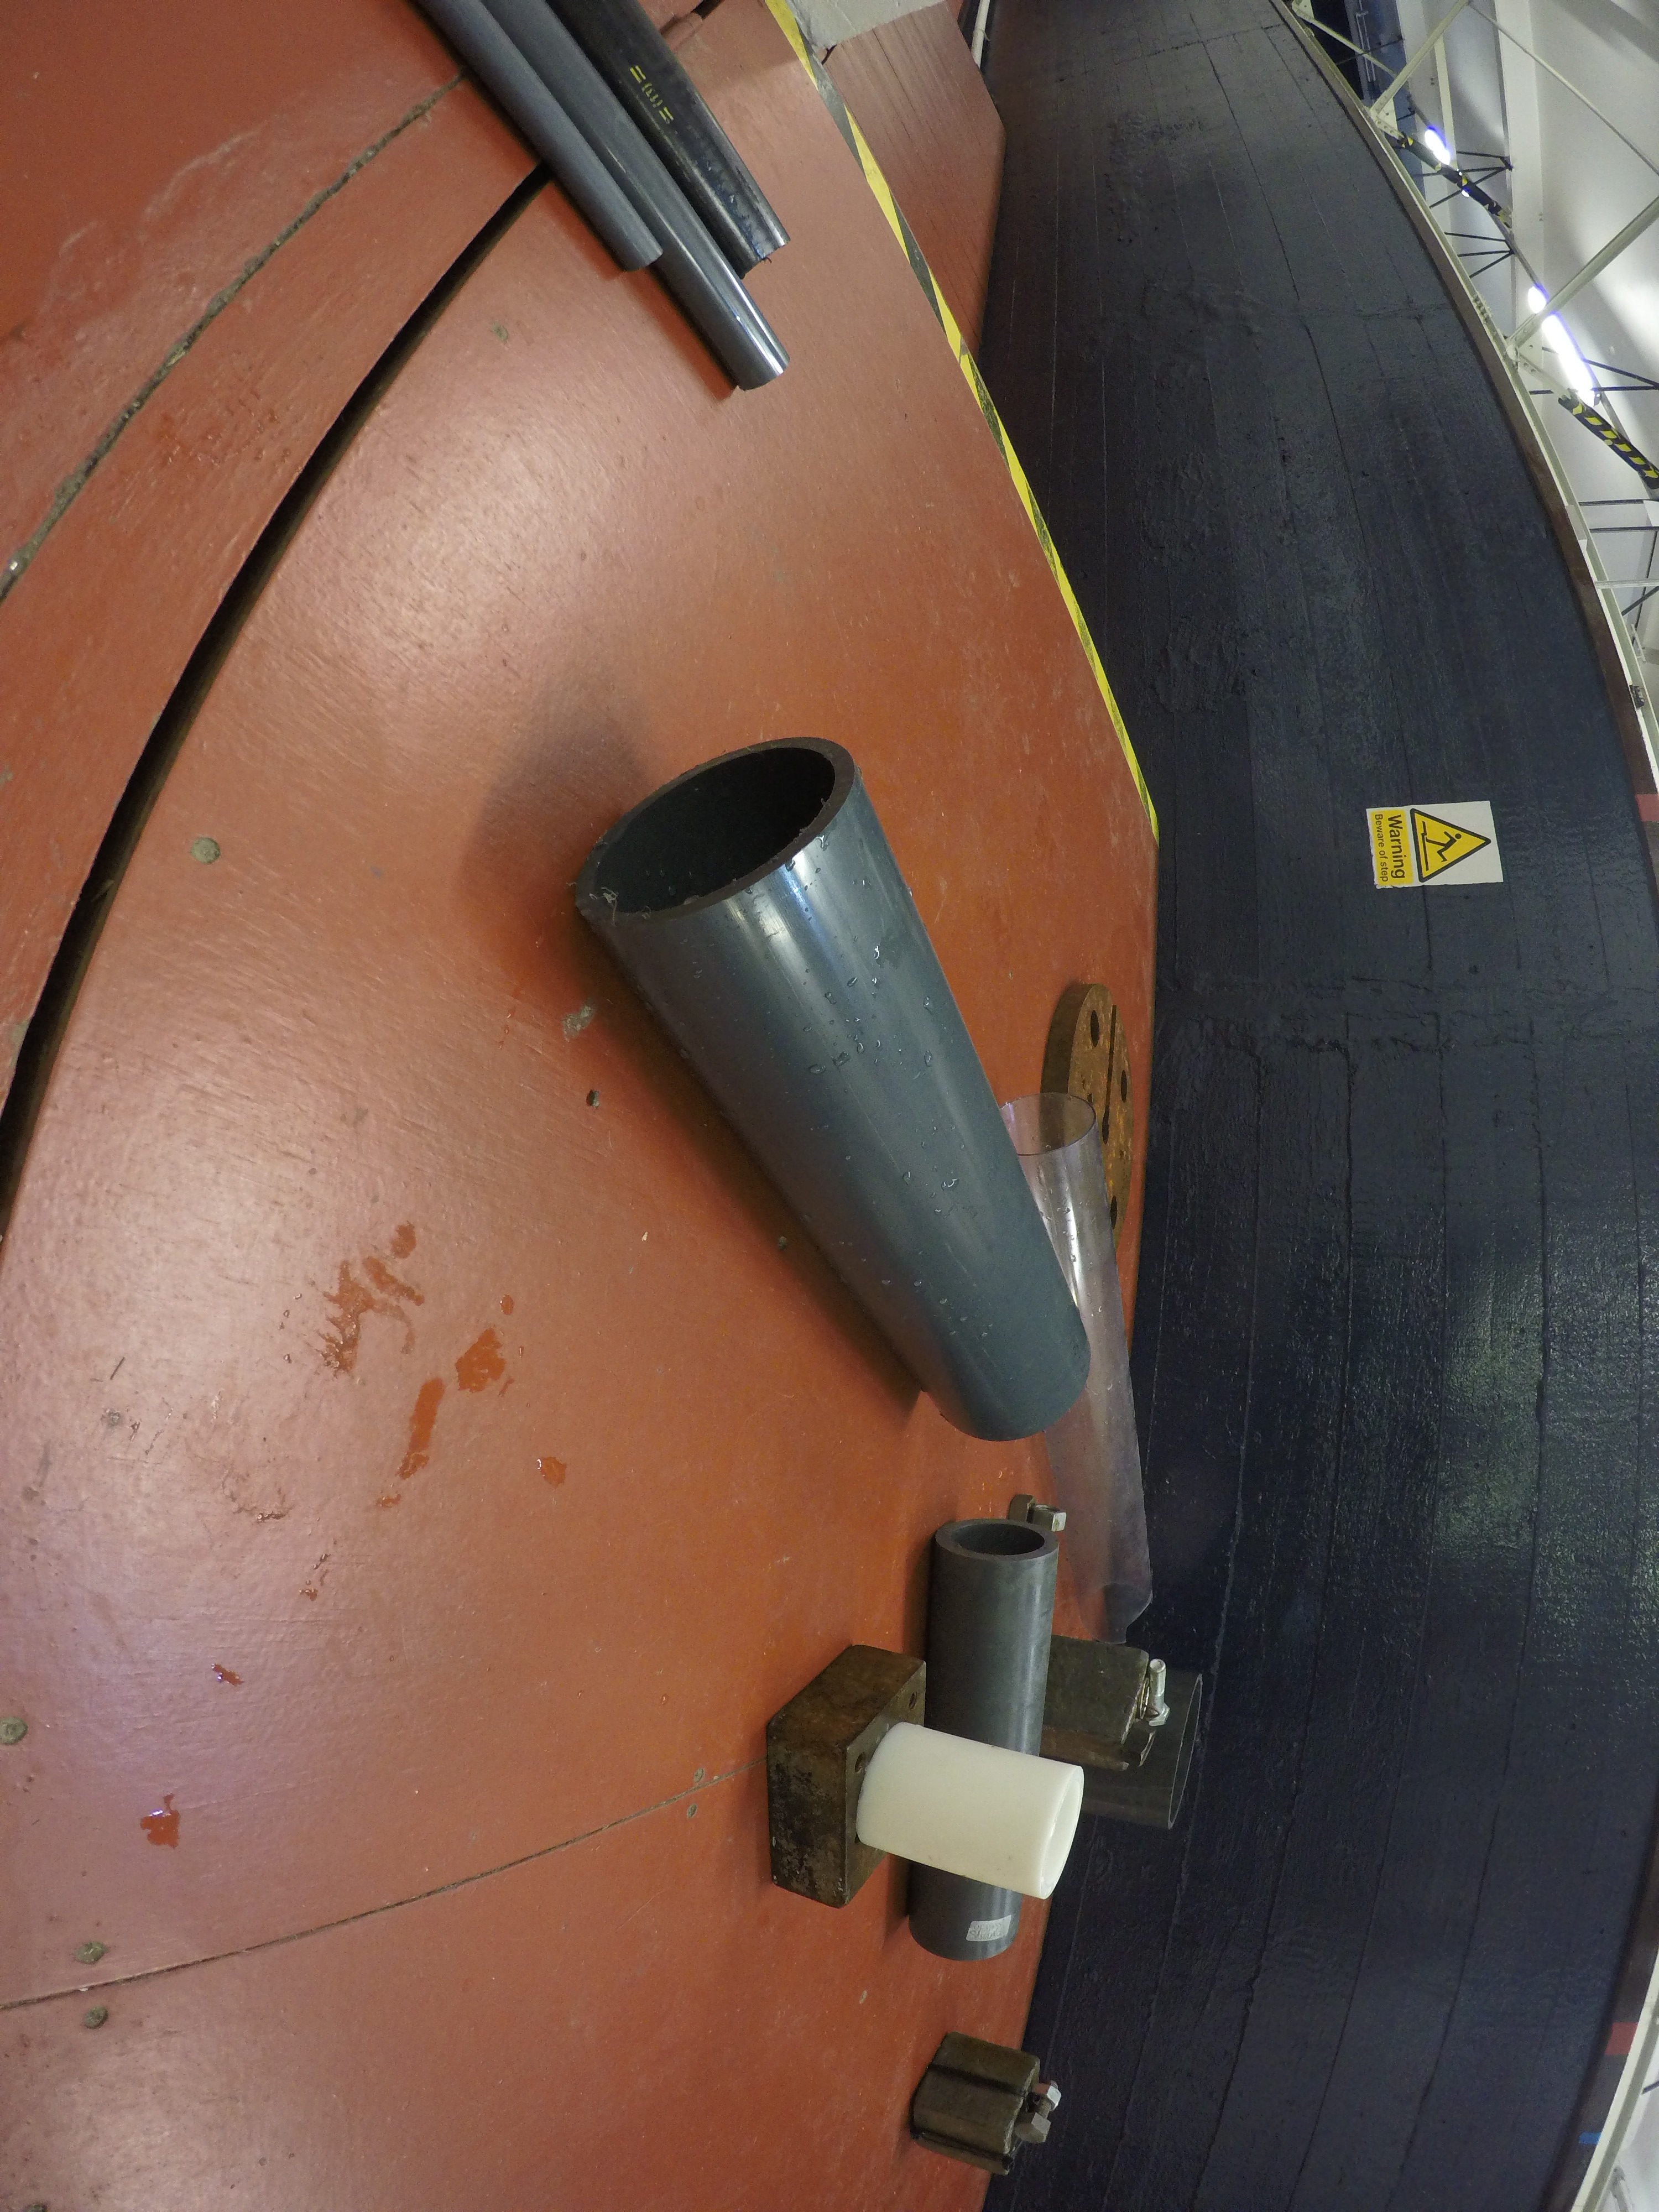bolt: (1019, 2078, 1061, 2142), (1148, 1658, 1169, 1730)
flange: (1042, 981, 1129, 1258)
lead_block: (765, 1644, 925, 1909)
led_block: (911, 2027, 1042, 2188)
nut: (1030, 1505, 1066, 1531), (1037, 2076, 1061, 2109), (1007, 1493, 1033, 1521)
pipe: (573, 737, 1089, 1440), (488, 0, 791, 392), (1000, 1092, 1155, 1642), (554, 0, 793, 284), (418, 0, 664, 273), (857, 1723, 1084, 1895), (1086, 1658, 1204, 1827), (927, 1519, 1058, 1658)
